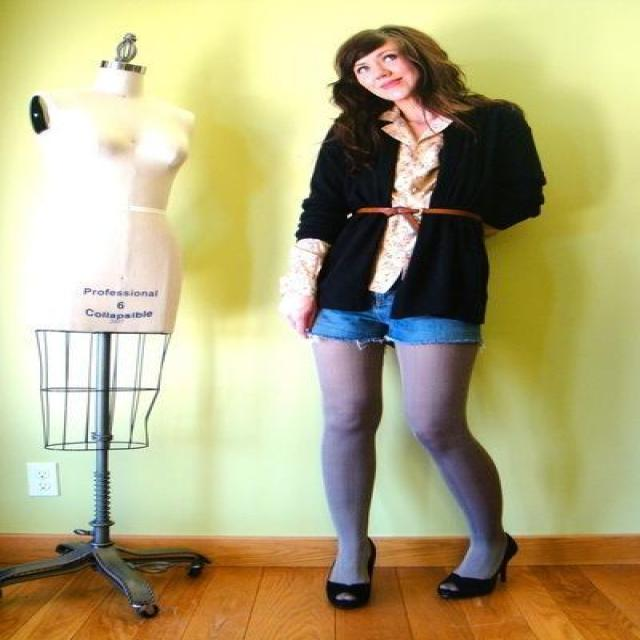jacket: (296, 101, 546, 336)
shirt: (369, 148, 436, 294)
shoe: (327, 551, 516, 610)
shorts: (304, 296, 467, 344)
